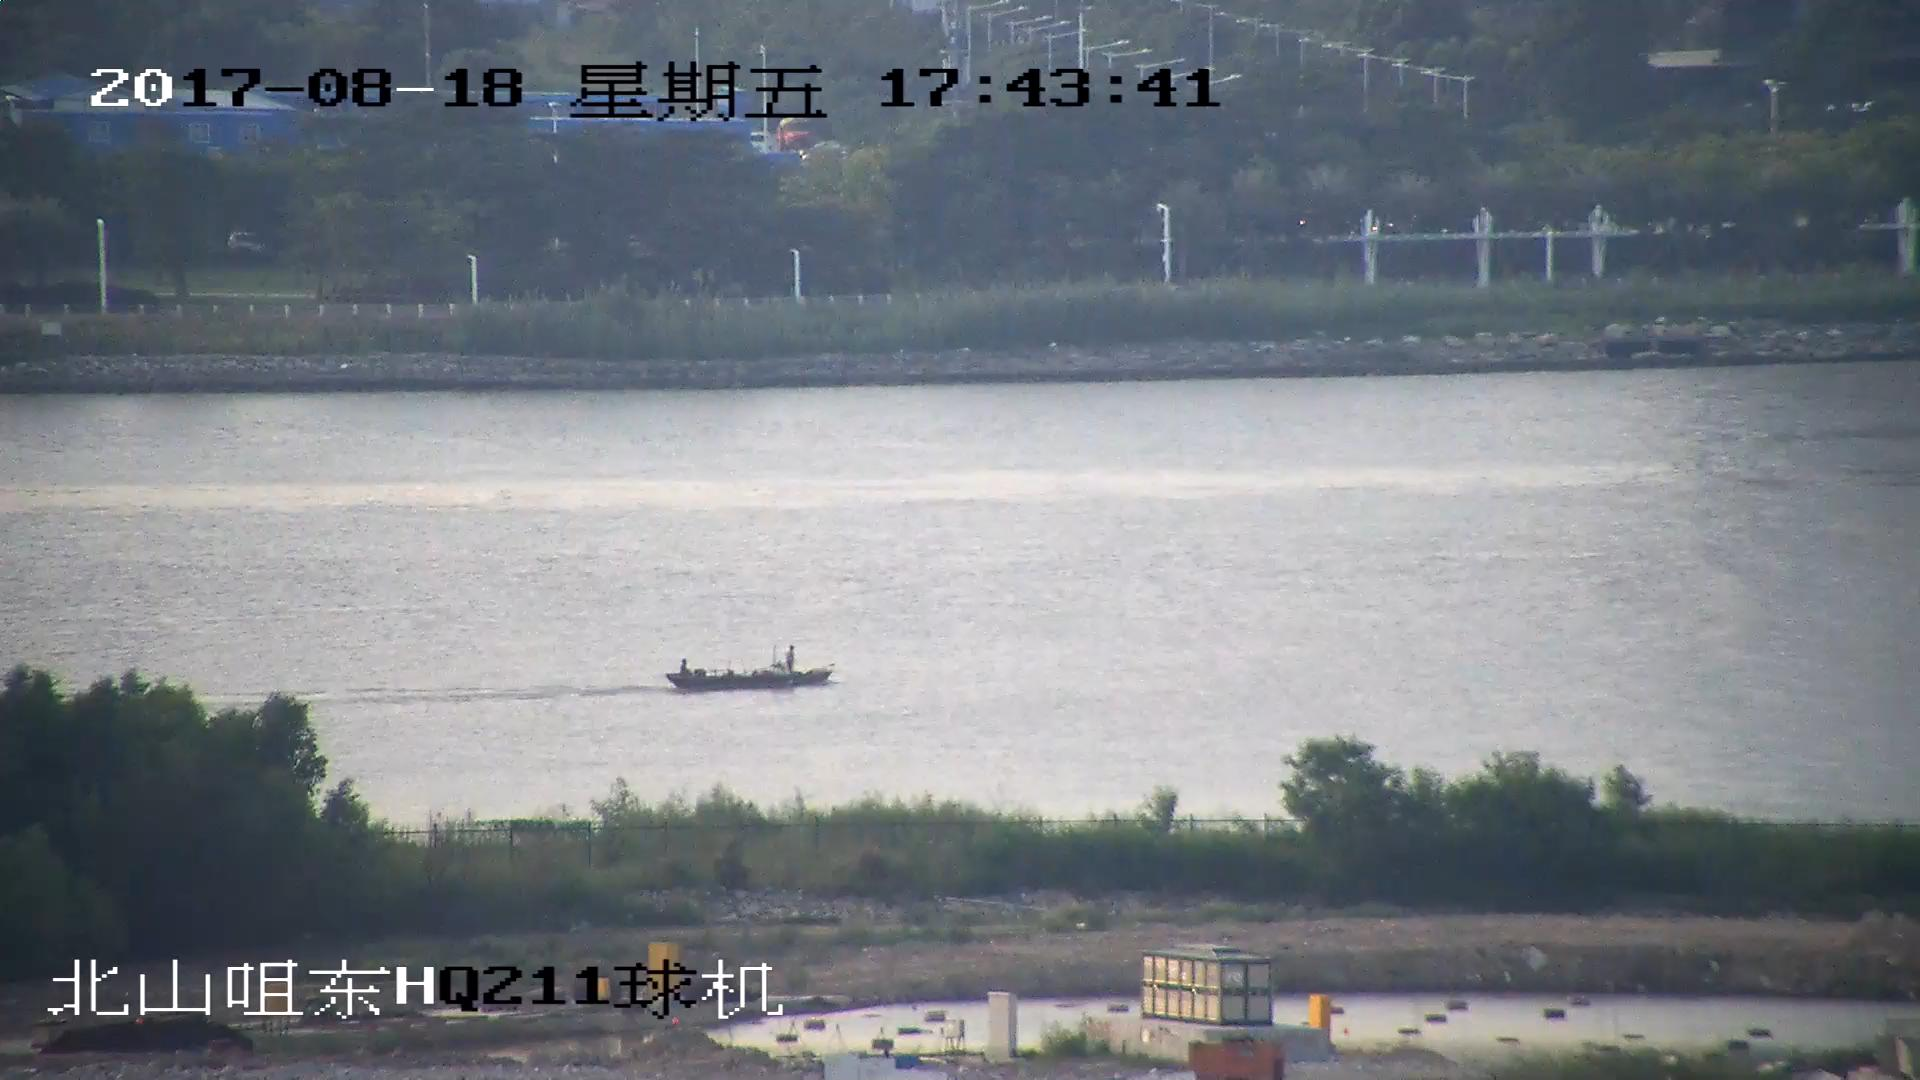fishing boat: (668, 649, 833, 689)
